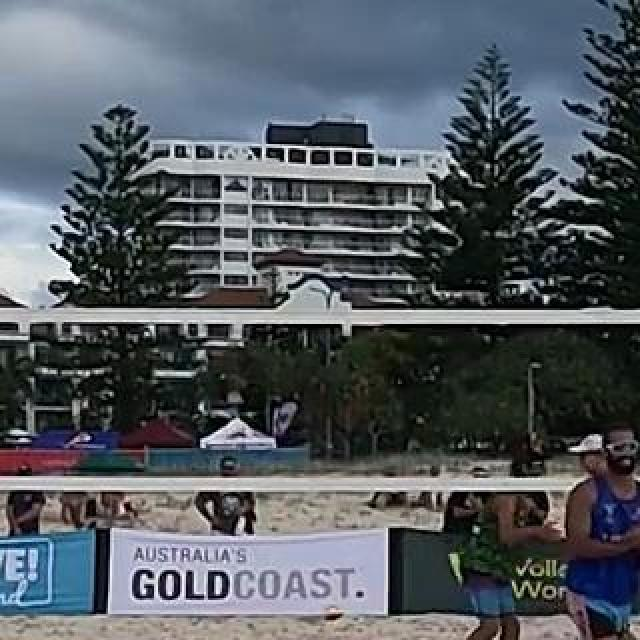volleyball: (323, 602, 343, 622)
